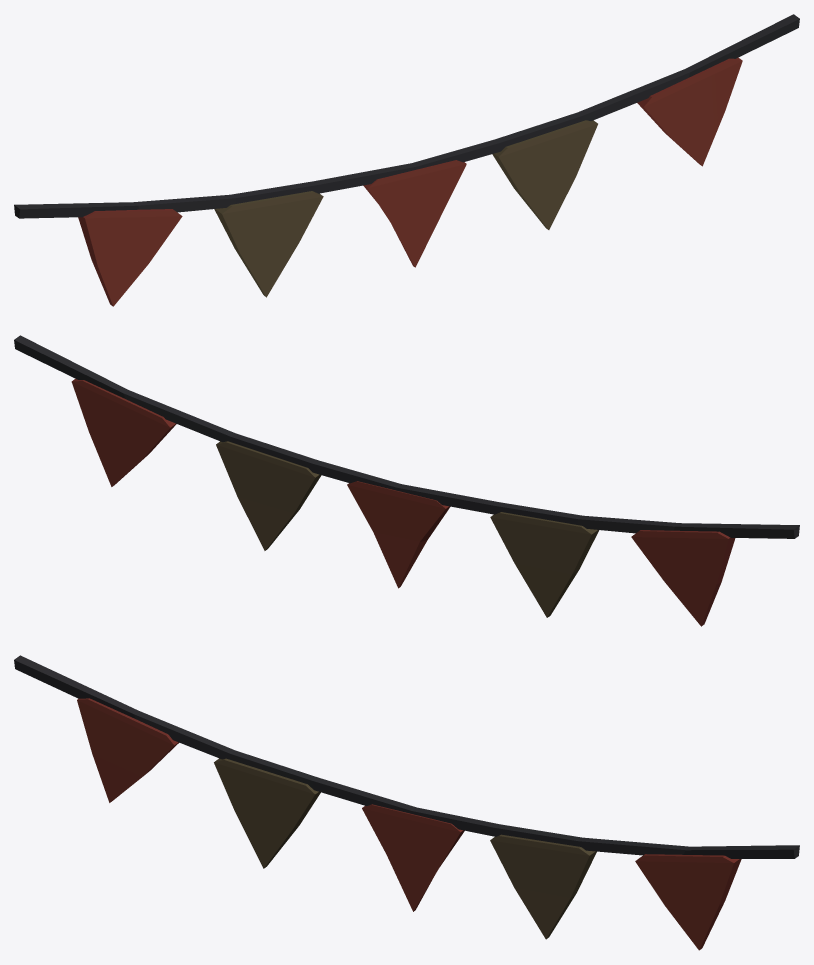
The model's file is flags.glb.
The picture shows the model from 3 angles, top to bottom: view 1: azimuth 30°, elevation 25°; view 2: azimuth 150°, elevation 25°; view 3: azimuth 330°, elevation 25°; orthographic projection.
Visible parts, largest first — view 1: SM_Prop_Flags_01; view 2: SM_Prop_Flags_01; view 3: SM_Prop_Flags_01.
Part boxes in pixels (x1,y1,x2,y2): SM_Prop_Flags_01: (14, 14, 799, 306); SM_Prop_Flags_01: (14, 335, 799, 626); SM_Prop_Flags_01: (14, 655, 799, 950).
Size of the model in its own units: 250 by 48.05 by 4.73.
Materials: 1 (1 with a texture image).
